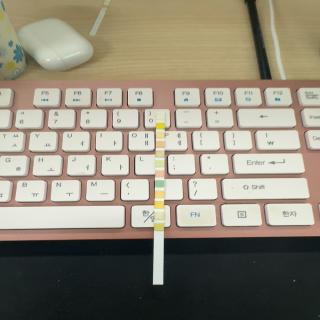mark: (154, 223, 164, 231), (154, 212, 164, 220), (154, 200, 164, 208), (154, 190, 164, 198), (154, 180, 164, 188), (156, 170, 164, 178), (156, 140, 164, 148), (156, 160, 164, 167), (156, 131, 164, 138), (156, 151, 164, 157), (156, 123, 164, 129), (156, 114, 164, 120)
